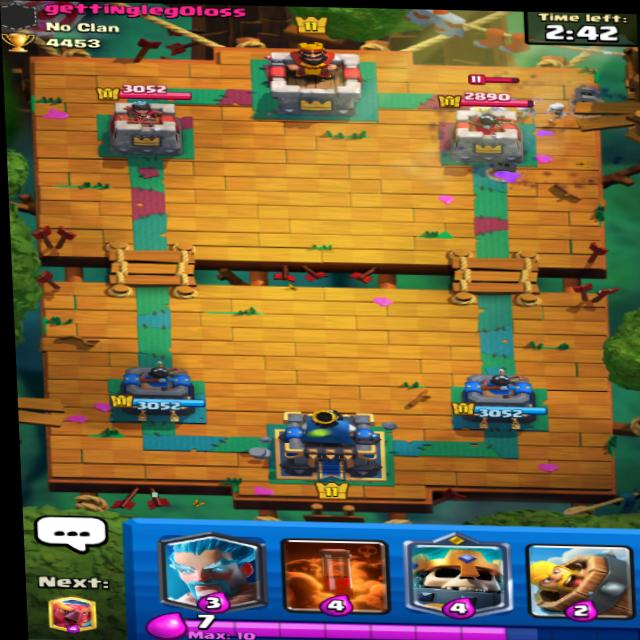royal-ghost: (469, 74, 526, 120)
